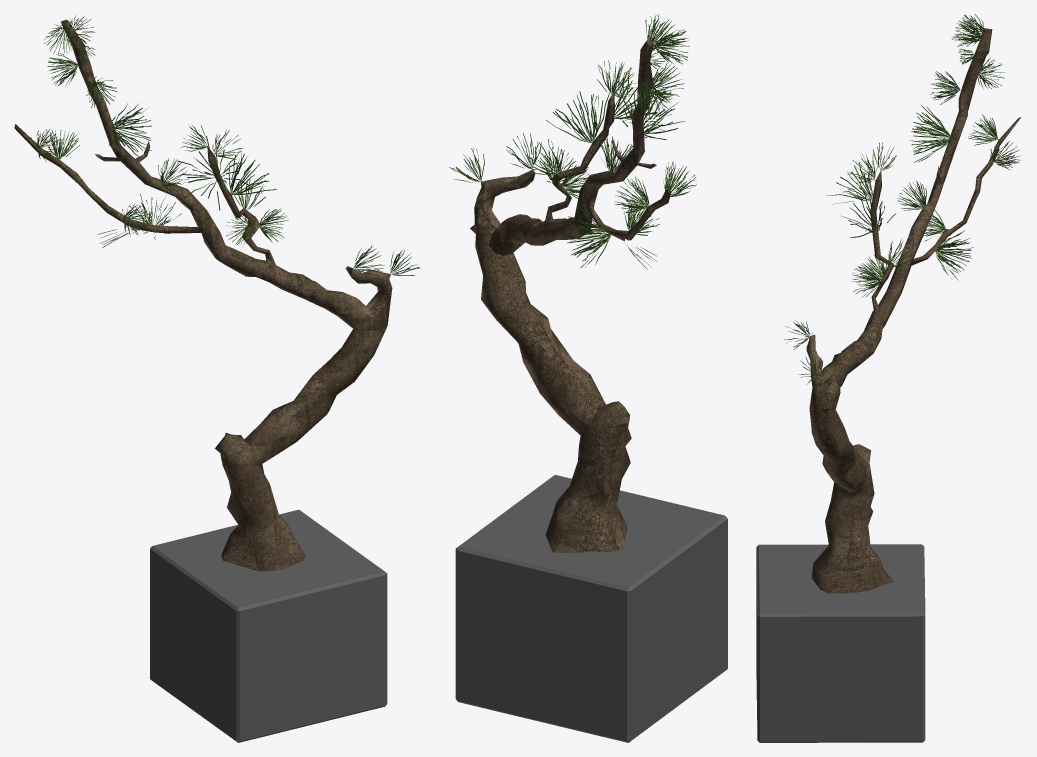
3 renders of one model, left to right at view 1: azimuth 30°, elevation 25°; view 2: azimuth 150°, elevation 25°; view 3: azimuth 270°, elevation 25°, orthographic. The views are drawn at different scales.
Visible parts, largest first — view 1: Obj3d66_550400_16_411, Obj3d66_550400_14_323, Obj3d66_550400_15_806; view 2: Obj3d66_550400_16_411, Obj3d66_550400_14_323, Obj3d66_550400_15_806; view 3: Obj3d66_550400_16_411, Obj3d66_550400_14_323, Obj3d66_550400_15_806.
Part boxes in pixels (box(x1,y1,x2,y2)): Obj3d66_550400_16_411: box(150, 509, 387, 742); Obj3d66_550400_14_323: box(14, 19, 392, 571); Obj3d66_550400_15_806: box(31, 15, 420, 275); Obj3d66_550400_16_411: box(455, 475, 727, 742); Obj3d66_550400_14_323: box(470, 38, 670, 552); Obj3d66_550400_15_806: box(449, 14, 696, 269); Obj3d66_550400_16_411: box(756, 544, 925, 742); Obj3d66_550400_14_323: box(806, 28, 1021, 593); Obj3d66_550400_15_806: box(784, 14, 1020, 384).
Bounding box in the file's own units: 943 × 1998 × 762.
Materials: 3 (2 with a texture image).
